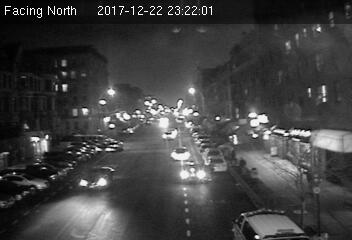car: (78, 165, 115, 189), (179, 162, 209, 185), (206, 156, 228, 173), (170, 145, 190, 162), (105, 141, 124, 152), (161, 129, 174, 139)
police: (228, 205, 305, 240)
